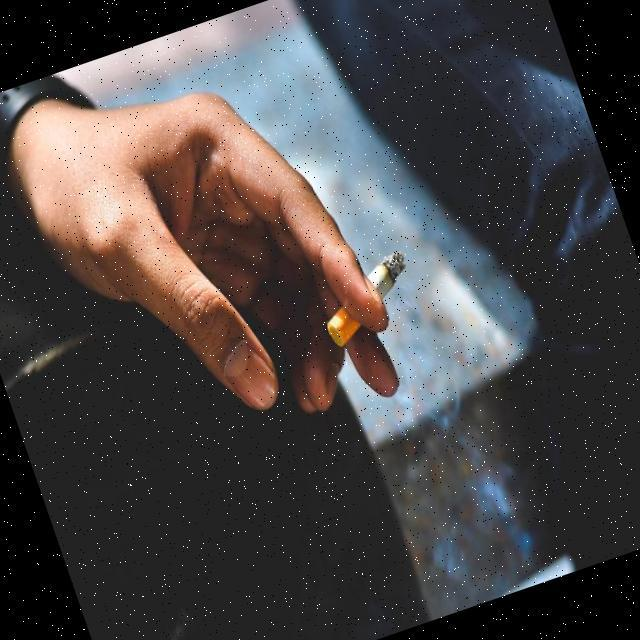cigarette: (307, 246, 426, 350)
